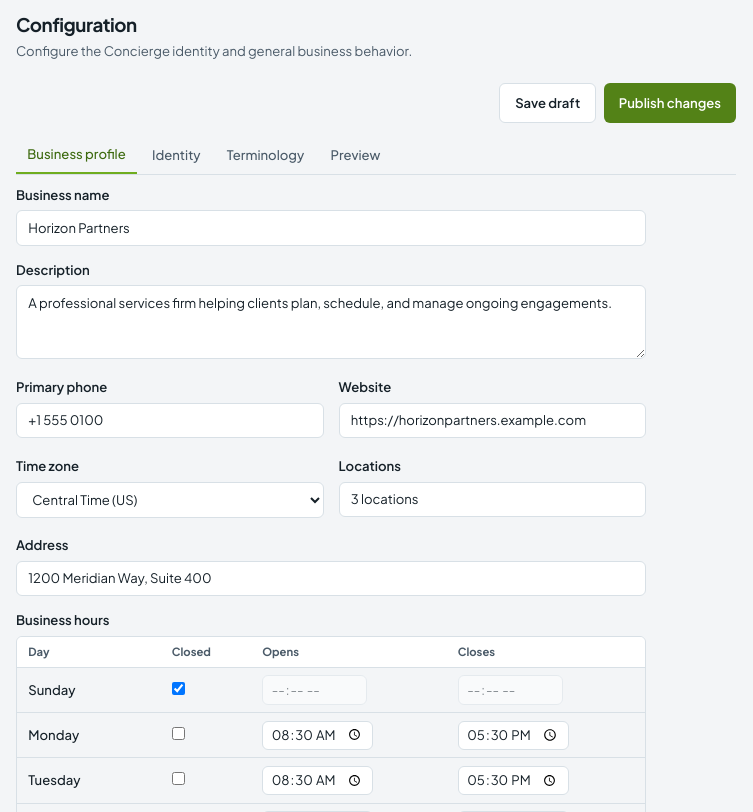
Test case: ConfigurationPage › switches to the Terminology tab and shows its fields
This screenshot has width=753, height=812.
Expected: the field showing "Horizon Partners" is shown, [16, 210, 646, 246]
Click the tab "Terminology".
click(266, 156)  # box [216, 138, 316, 174]
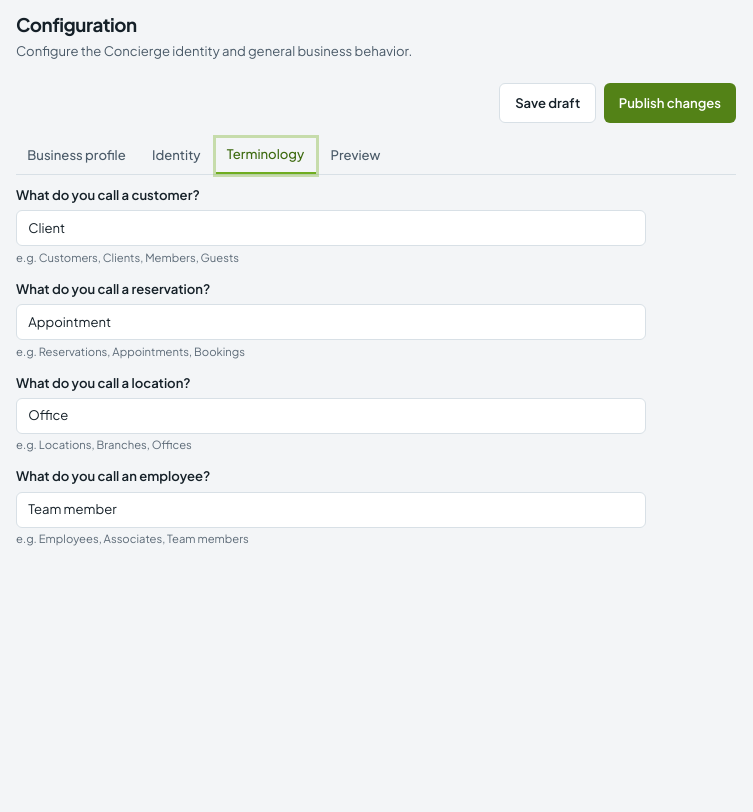
Now the field showing "Client" is shown, box [16, 210, 646, 246]
